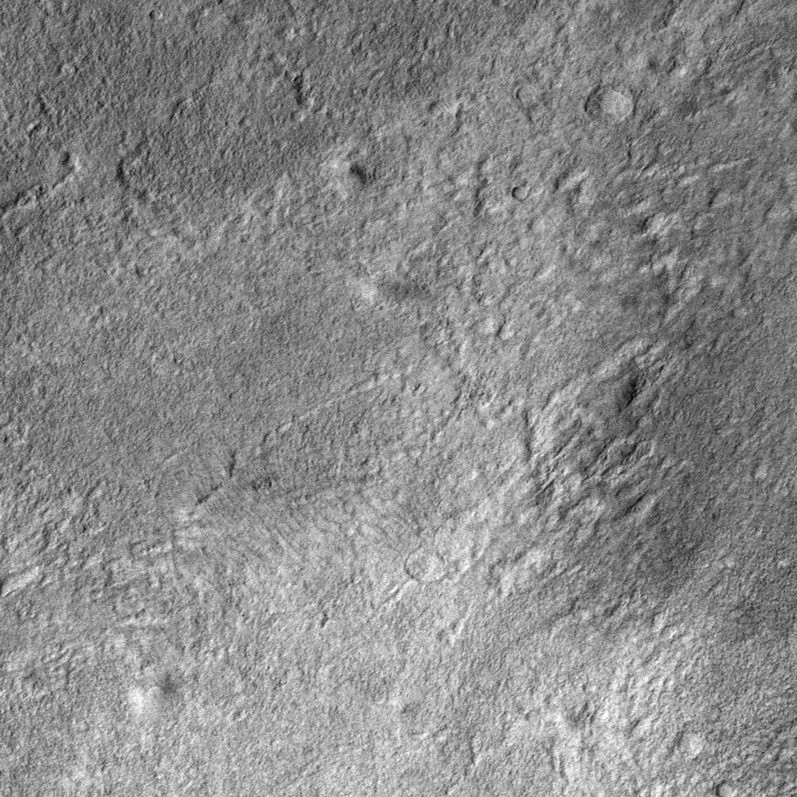dust_devil: (359, 278, 433, 307)
